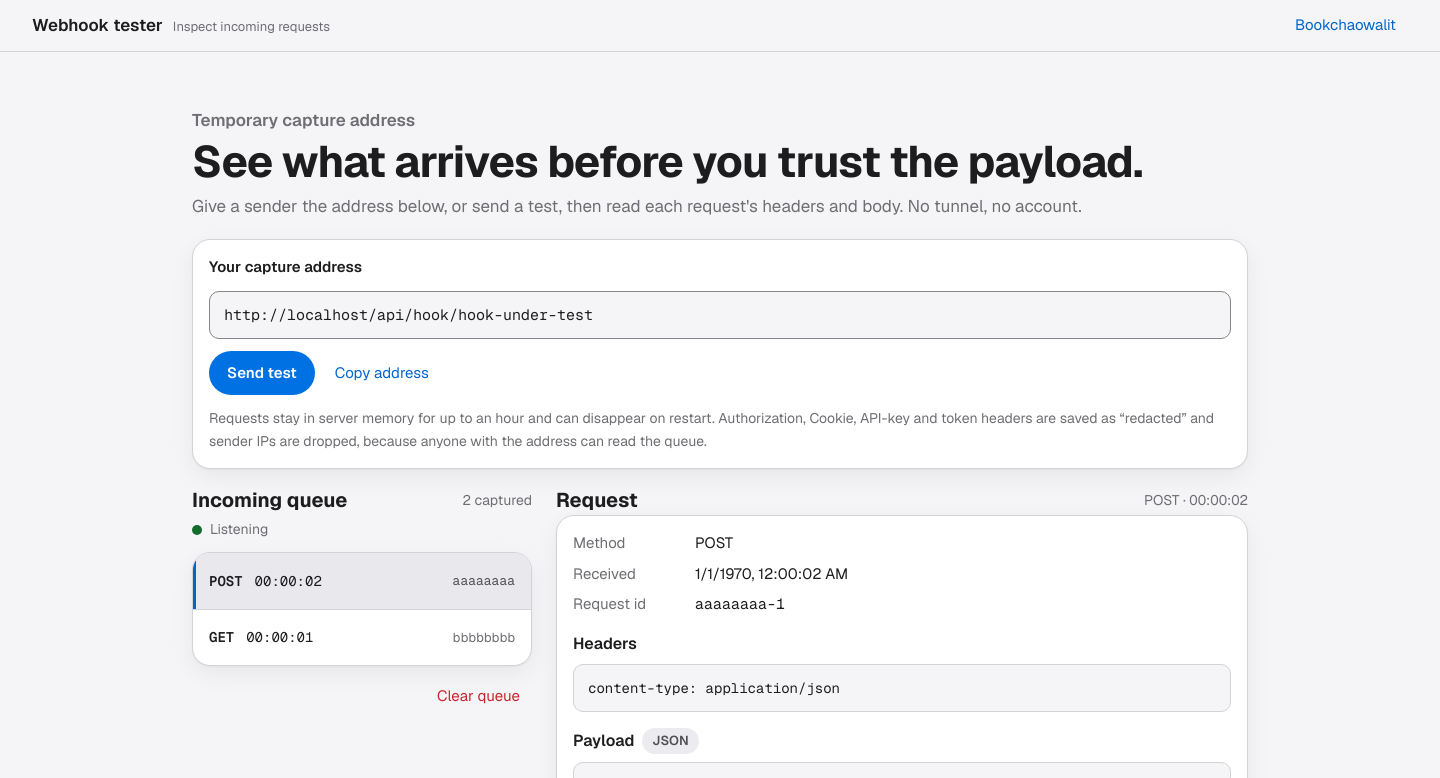
Test: clear sent to the server › keeps the cleared requests hidden until the server answers, then shows the reloaded queue
Click the button "Clear queue" at (478, 696), box [425, 674, 532, 718]
Wait 6000 ms
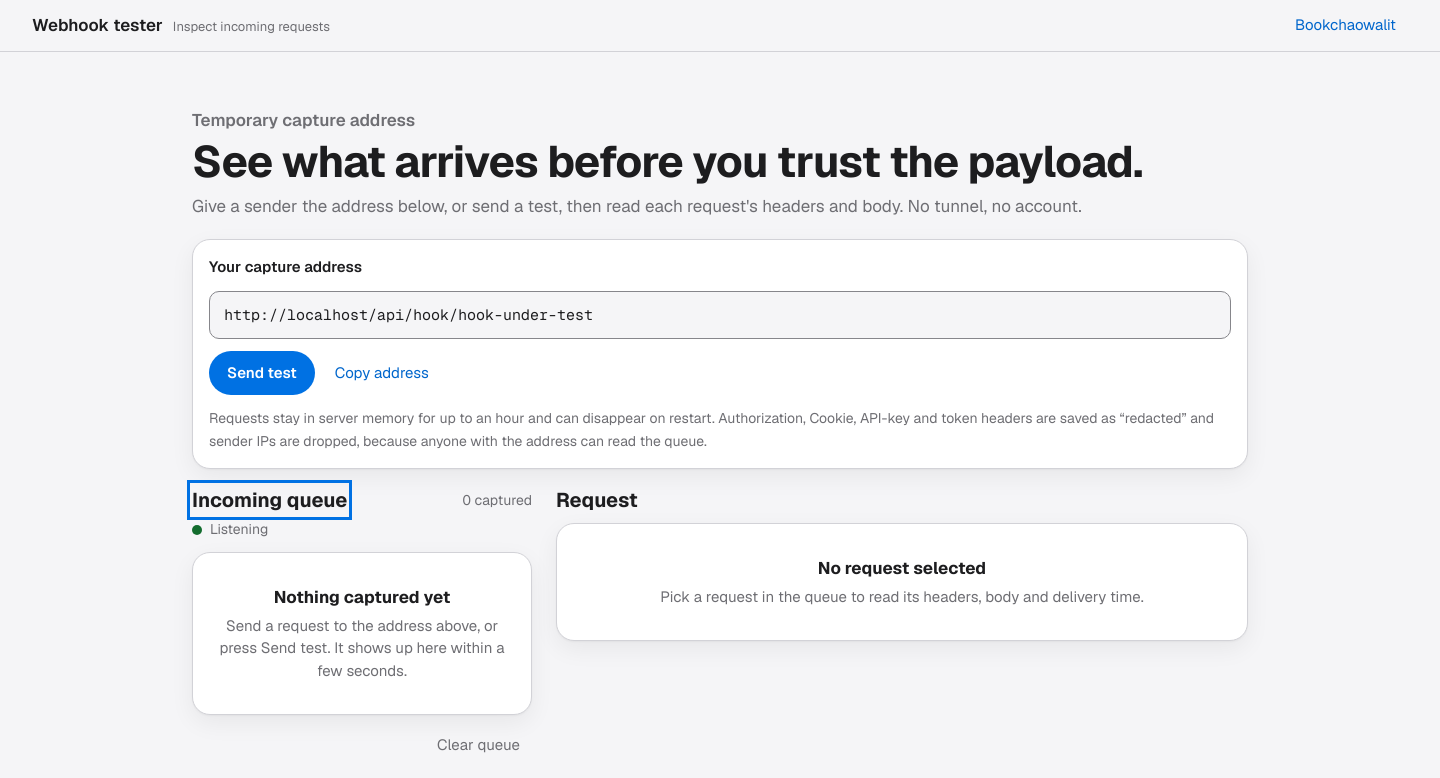
Result: no buttons with class "wh-req" are shown
